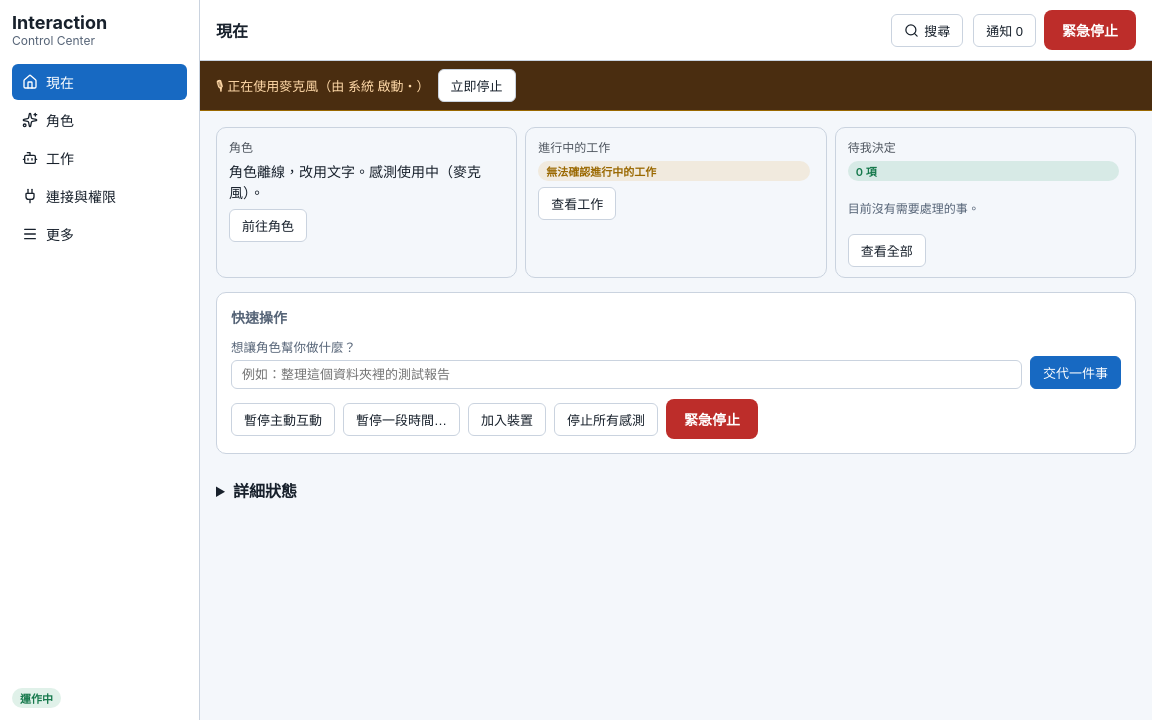
Scenario: N3-UI-STOP-HISTORY: App sensor stop wiring › uses fresh historical capture and preserves its reminder
Click the button "立即停止" at (477, 86), box [438,69,516,102]
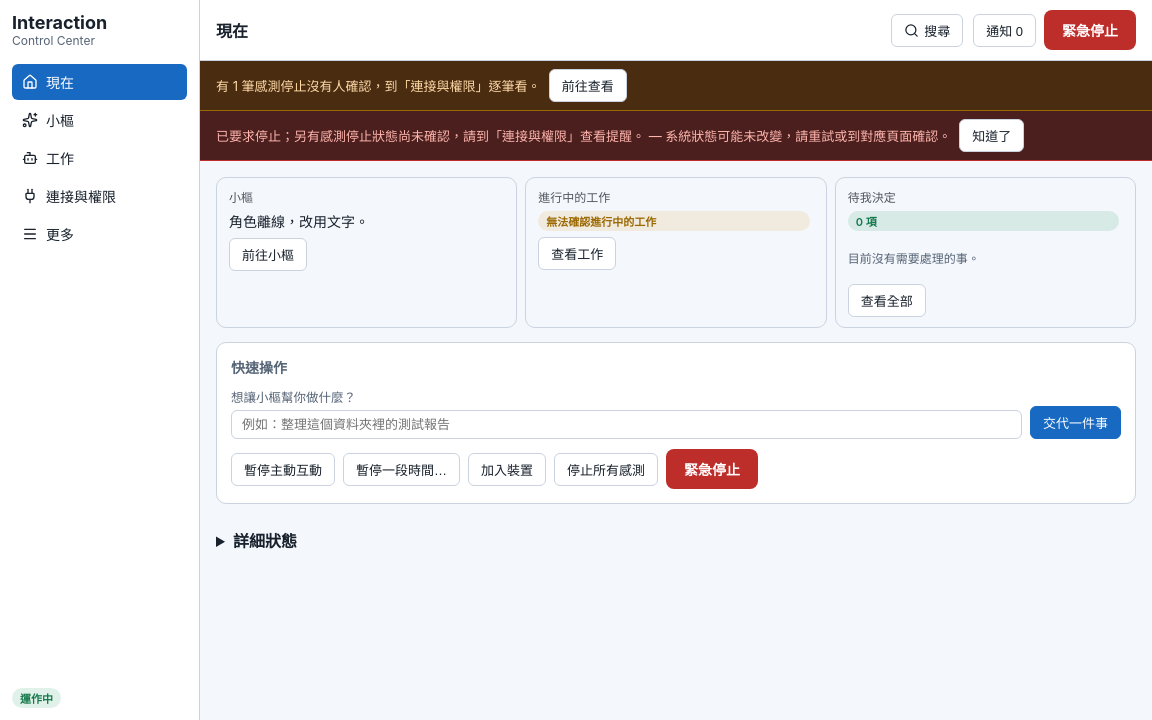
Expected: the message "已要求停止；另有感測停止狀態尚未確認，請到「連接與權限」查看提醒。 — 系統狀態可能未改變，請重試或到對應頁面確認。 知道了" is shown, [200,111,1151,161]
Expected: the message "有 1 筆感測停止沒有人確認，到「連接與權限」逐筆看。 前往查看" is shown, [200,61,1151,111]
